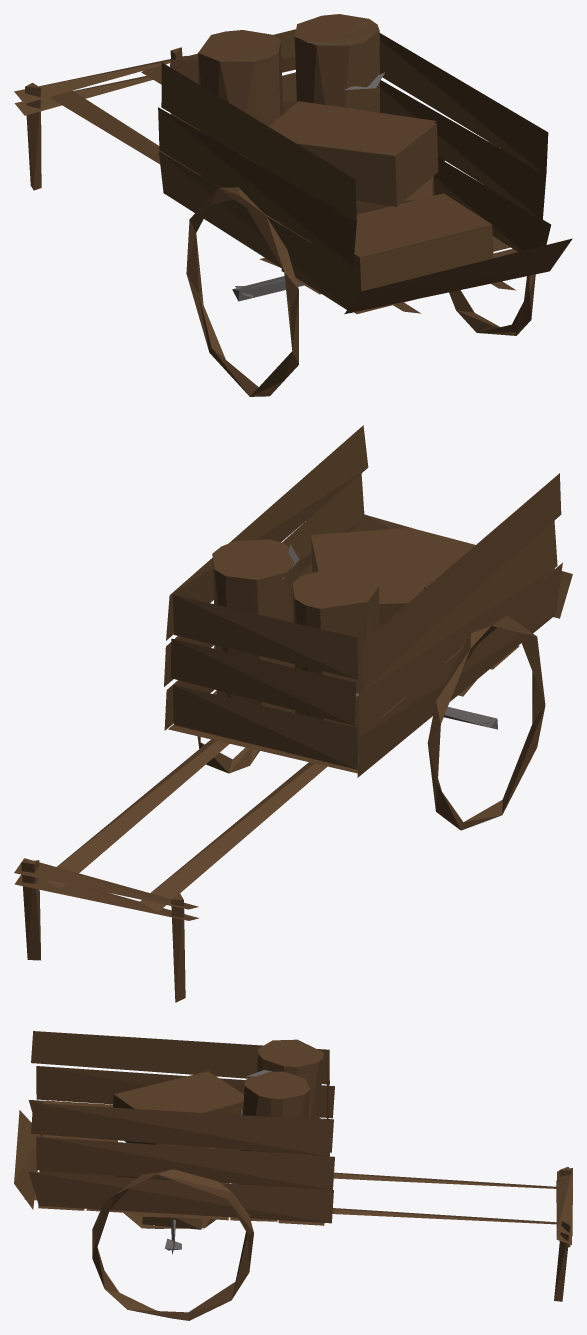
File: wooden-cart.lod2.glb
3 views of the same model, one above another, from view 1: azimuth 30°, elevation 25°; view 2: azimuth 150°, elevation 25°; view 3: azimuth 270°, elevation 25° (orthographic). The views are drawn at different scales.
Visible parts, largest first — view 1: Cylinder.002_metal_0; view 2: Cylinder.002_metal_0; view 3: Cylinder.002_metal_0.
Part boxes in pixels (<box>): Cylinder.002_metal_0: <box>14,14,572,396</box>; Cylinder.002_metal_0: <box>14,425,572,1002</box>; Cylinder.002_metal_0: <box>14,1031,572,1320</box>.
Size of the model in its own units: 1.85 by 1.88 by 4.55.
